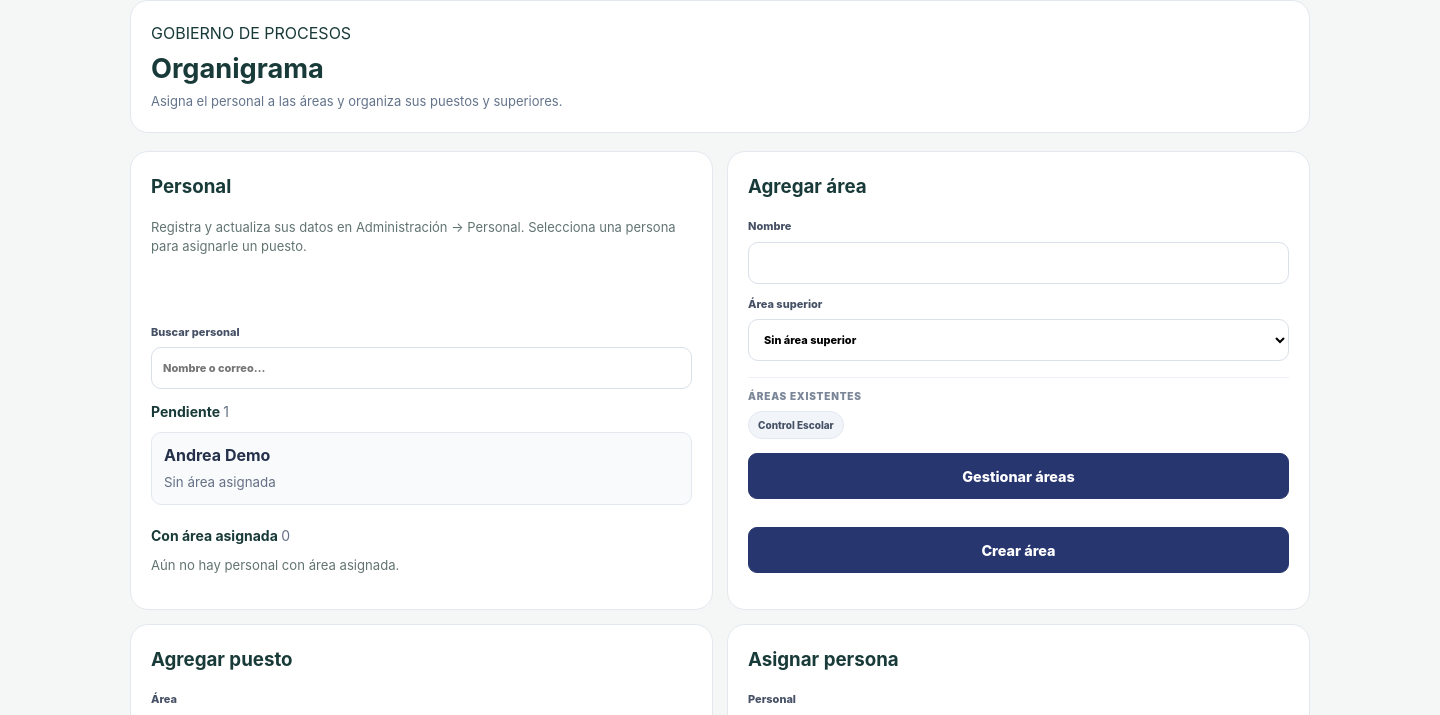
Test: Organigrama ICMSA — réplica KPIs Web › centraliza acciones y confirma la eliminación sin cerrar la ventana de áreas
Step 1. Click the button "Gestionar áreas" → x=1018, y=476, box [748,453,1289,499]
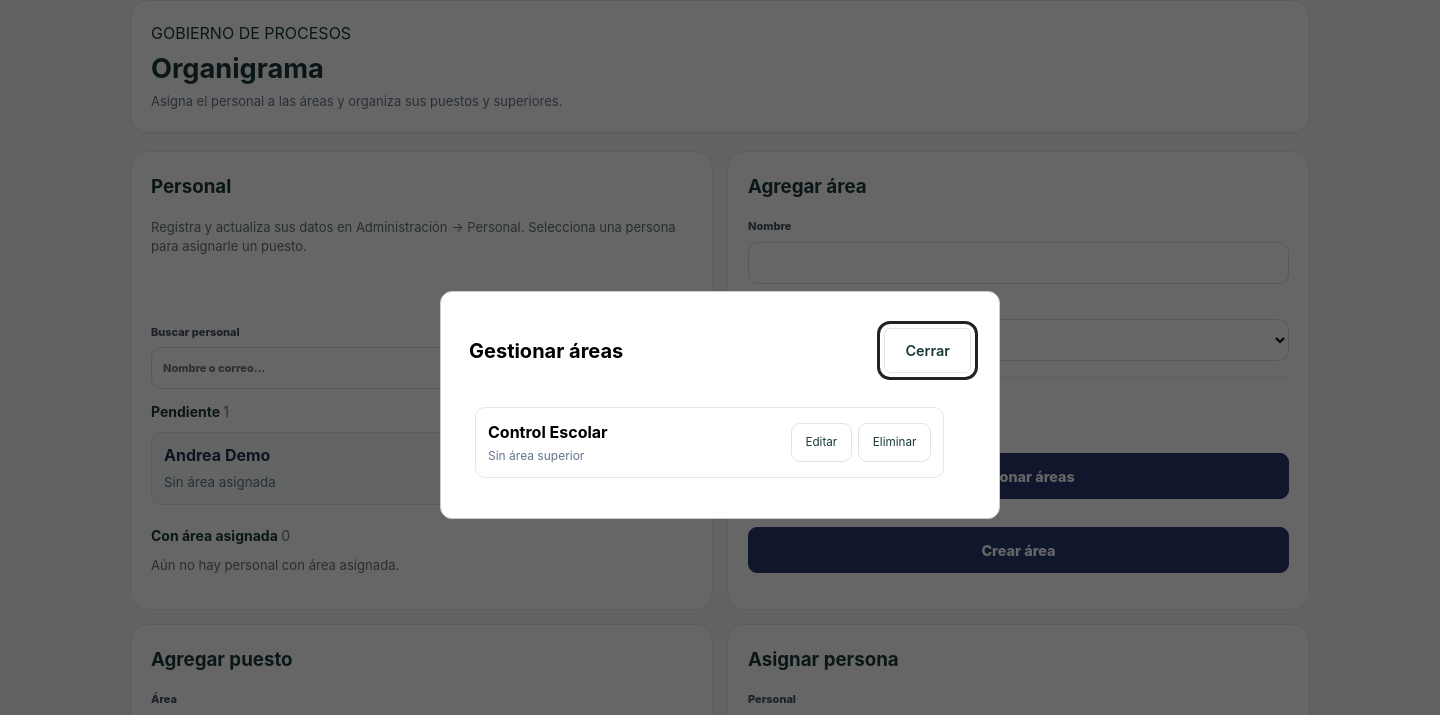
Step 2. Click the button with aria-label "Eliminar área Control Escolar" → x=895, y=443, box [858,423,931,462]
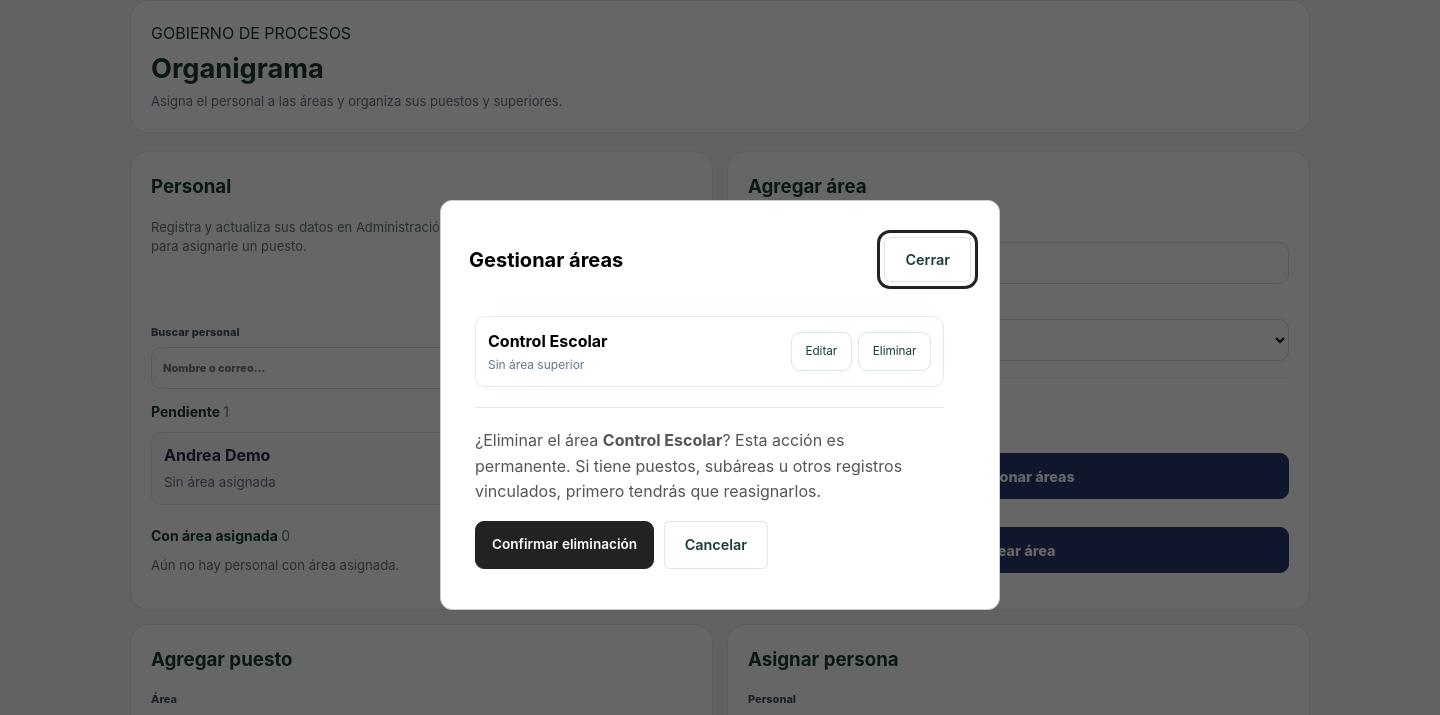
Step 3. Click the button "Confirmar eliminación" → x=565, y=545, box [475,521,654,569]
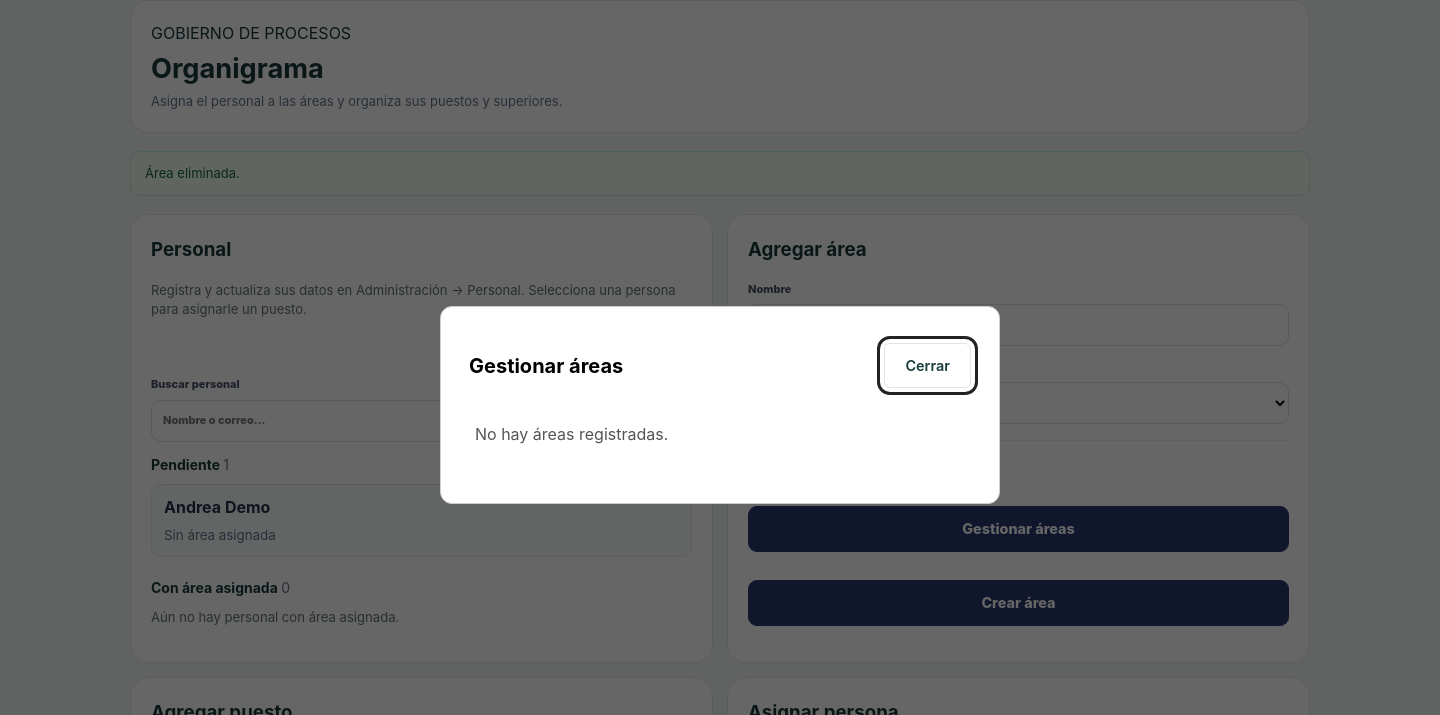
Result: the text "No hay áreas registradas." is shown at [475,424,668,444]
